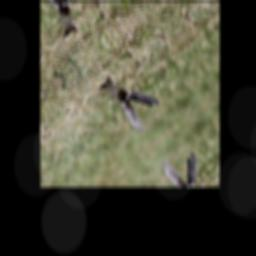Swallow: (96, 59, 167, 141)
